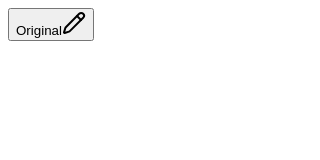
Scenario: EzTextEdit › switches to an input on click and saves on Enter
The image size is (320, 160).
Later steps or results of the test are not shown.
Click the button "Original". click: (51, 24)
box: [8,8,94,41]
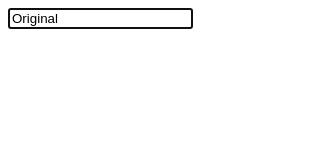
Expected: the field is shown, [8,8,193,29]
